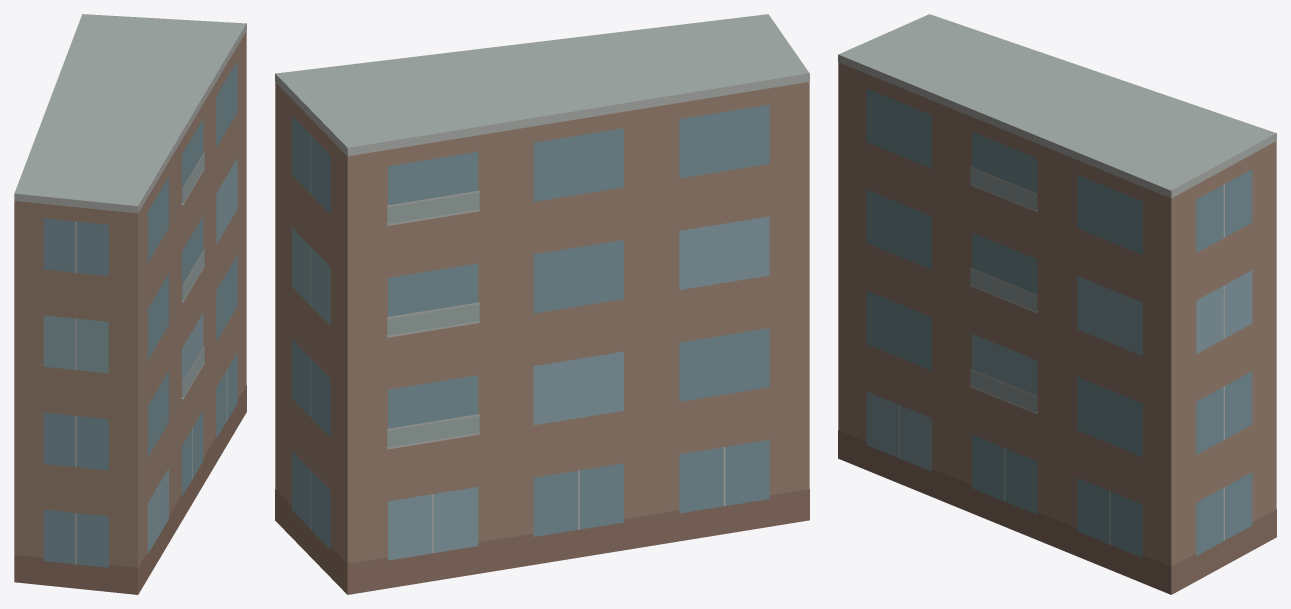
File: survey-upis-33002918.glb
The picture shows the model from 3 angles, left to right: view 1: azimuth 30°, elevation 25°; view 2: azimuth 150°, elevation 25°; view 3: azimuth 270°, elevation 25°; orthographic projection. The views are drawn at different scales.
Visible parts, largest first — view 1: survey-upis-33002918.tmp; view 2: survey-upis-33002918.tmp; view 3: survey-upis-33002918.tmp.
Boxes of the visible parts, <box> form: survey-upis-33002918.tmp: <box>14,14,246,594</box>; survey-upis-33002918.tmp: <box>275,14,809,594</box>; survey-upis-33002918.tmp: <box>838,14,1276,594</box>.
Bounding box in the file's own units: 12.21 × 13 × 12.8.
